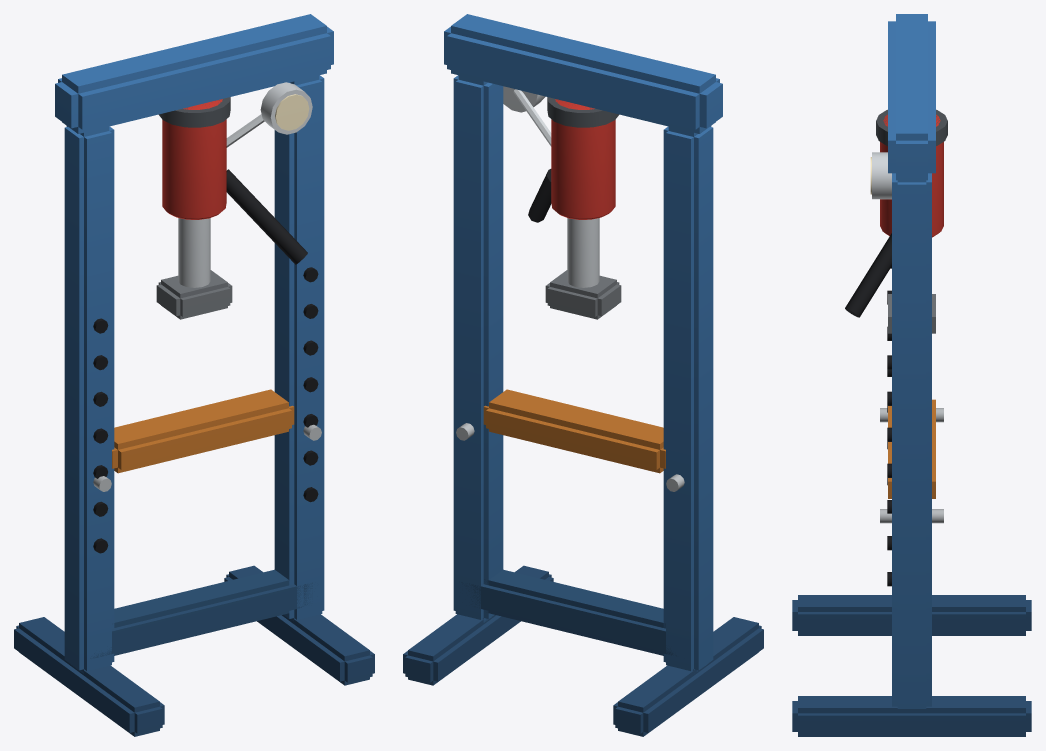
The model's file is SM_ShopPress_01.glb.
The picture shows the model from 3 angles, left to right: view 1: azimuth 30°, elevation 25°; view 2: azimuth 150°, elevation 25°; view 3: azimuth 270°, elevation 25°; orthographic projection.
Parts seen in each view (by area): view 1: SM_ShopPress_01; view 2: SM_ShopPress_01; view 3: SM_ShopPress_01.
Boxes of the visible parts, x1,y1,x2,y2 form: SM_ShopPress_01: (14,14,374,736); SM_ShopPress_01: (403,14,763,736); SM_ShopPress_01: (792,14,1031,736).
Size of the model in its own units: 0.75 by 1.68 by 0.6.
Materials: 1 (1 with a texture image).
